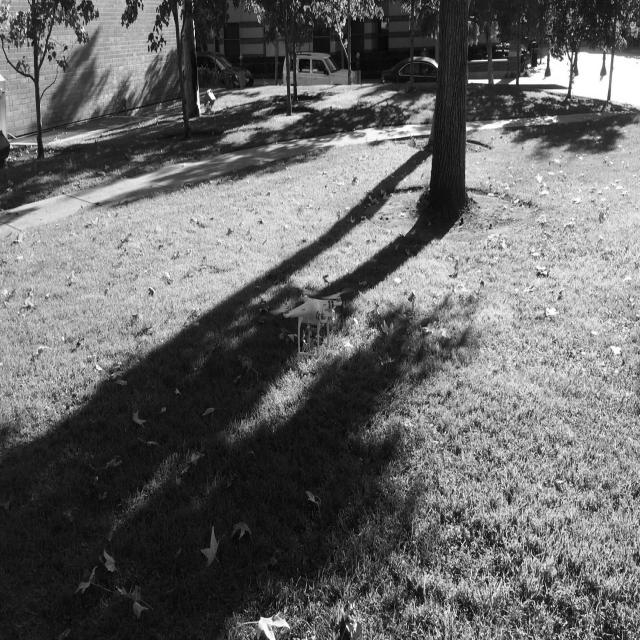drone: (288, 289, 343, 361)
